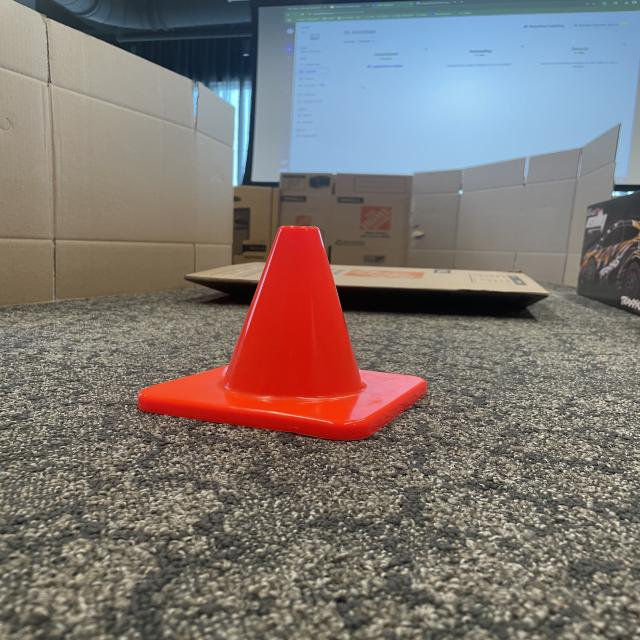Traffic Cone: (124, 219, 445, 454)
